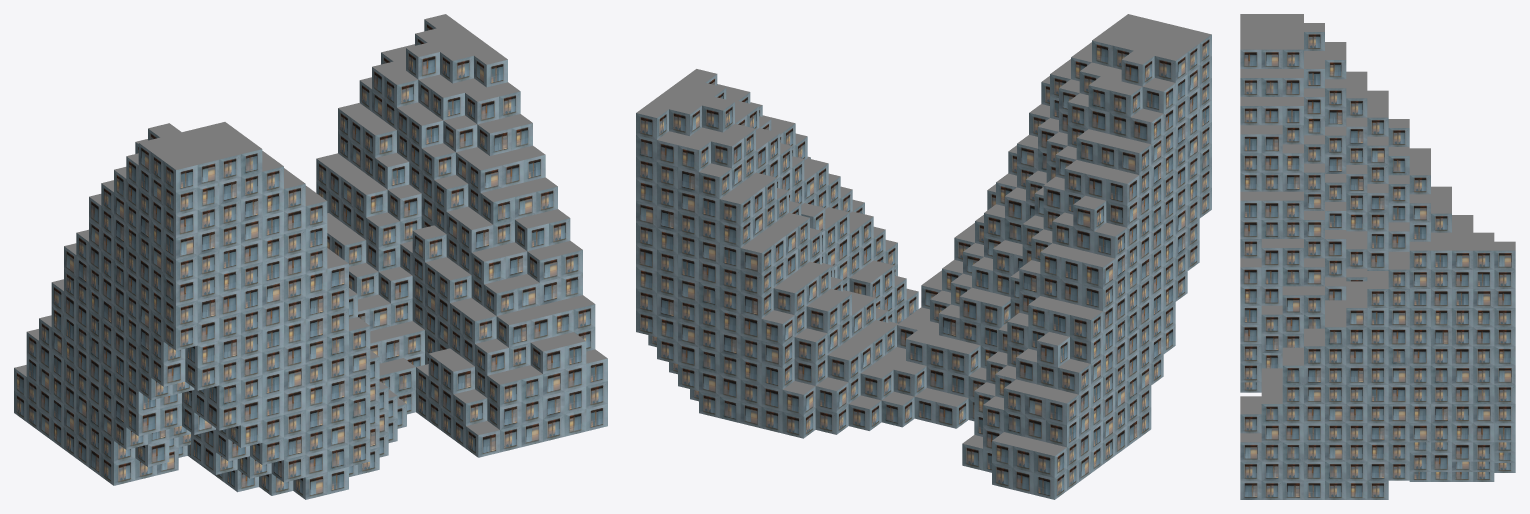
File: archweekend_1_9.glb
The picture shows the model from 3 angles, left to right: view 1: azimuth 30°, elevation 25°; view 2: azimuth 150°, elevation 25°; view 3: azimuth 270°, elevation 25°; orthographic projection. The views are drawn at different scales.
Visible parts, largest first — view 1: house-5.001; view 2: house-5.001; view 3: house-5.001.
Boxes of the visible parts, x1=… form: house-5.001: x1=14, y1=14, x2=607, y2=499; house-5.001: x1=636, y1=14, x2=1211, y2=499; house-5.001: x1=1240, y1=14, x2=1515, y2=499.
Bounding box in the file's own units: 60 × 48 × 39.
2 materials, 1 textured.
